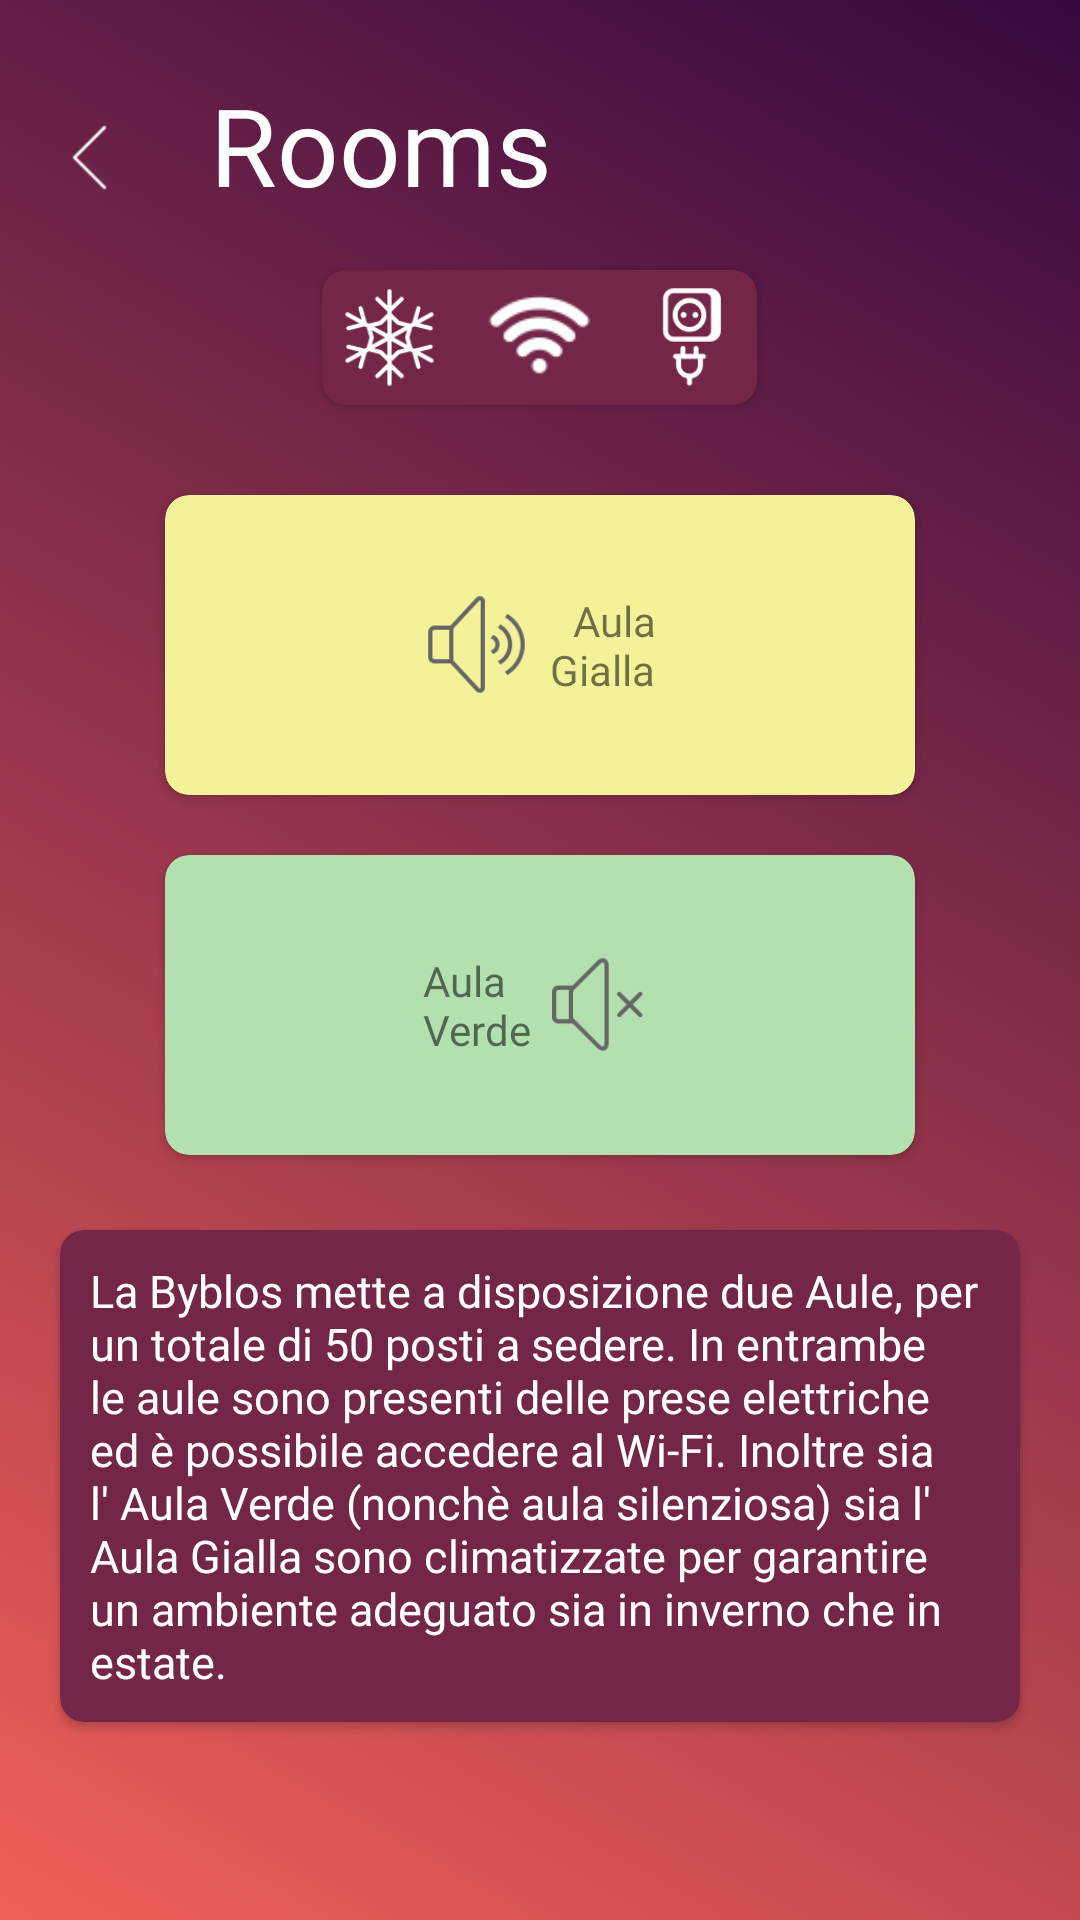

Named icons in this screenshot (1080 × 1920) and their centers, [x,y]:
clima: [389,337]
presa: [691,337]
wifi: [539,335]
